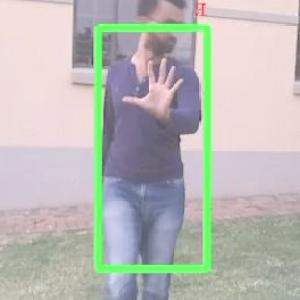follow_hand: (122, 52, 189, 126)
